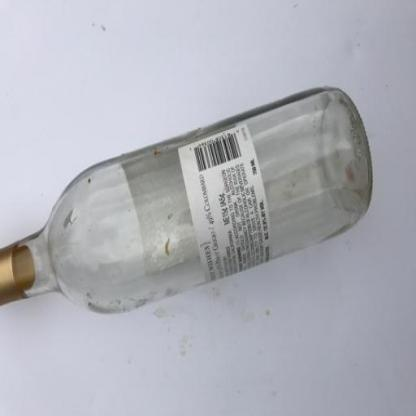trash: (0, 87, 375, 315)
